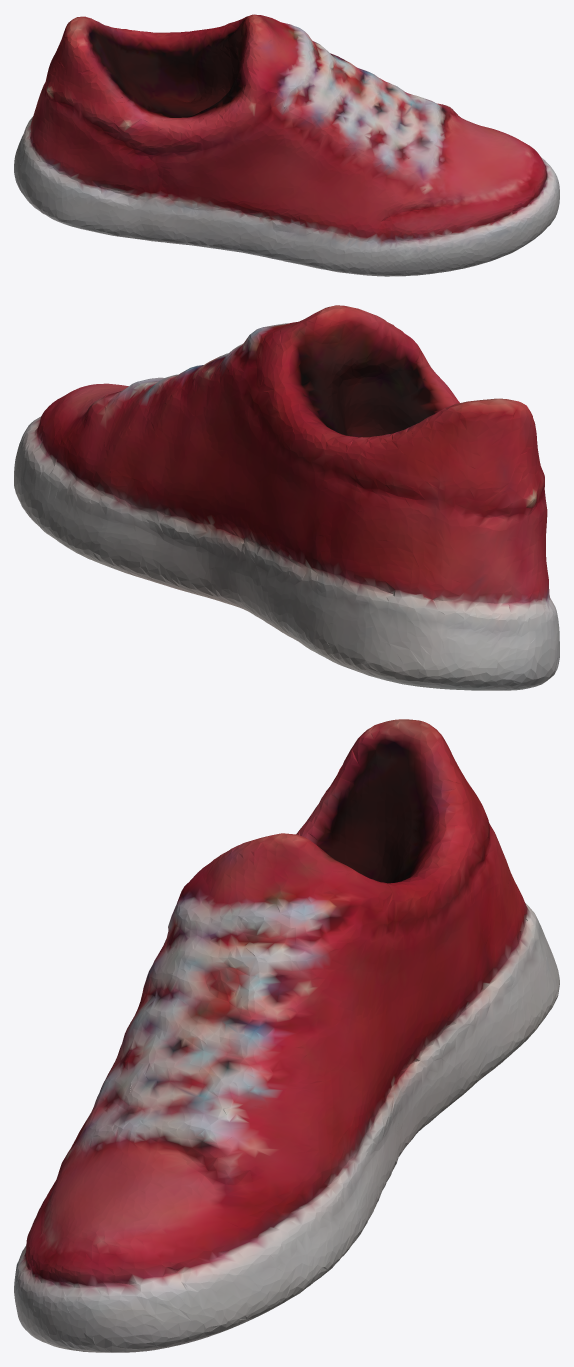
File: sneaker.fbx
3 views of the same model, one above another, from view 1: azimuth 30°, elevation 25°; view 2: azimuth 150°, elevation 25°; view 3: azimuth 270°, elevation 25° (orthographic). The views are drawn at different scales.
Visible parts, largest first — view 1: sneaker.obj; view 2: sneaker.obj; view 3: sneaker.obj.
Part boxes in pixels (x1,y1,x2,y2): sneaker.obj: (14, 14, 559, 276); sneaker.obj: (14, 305, 559, 690); sneaker.obj: (14, 719, 559, 1352).
Bounding box in the file's own units: 1.97 × 1 × 1.33.
